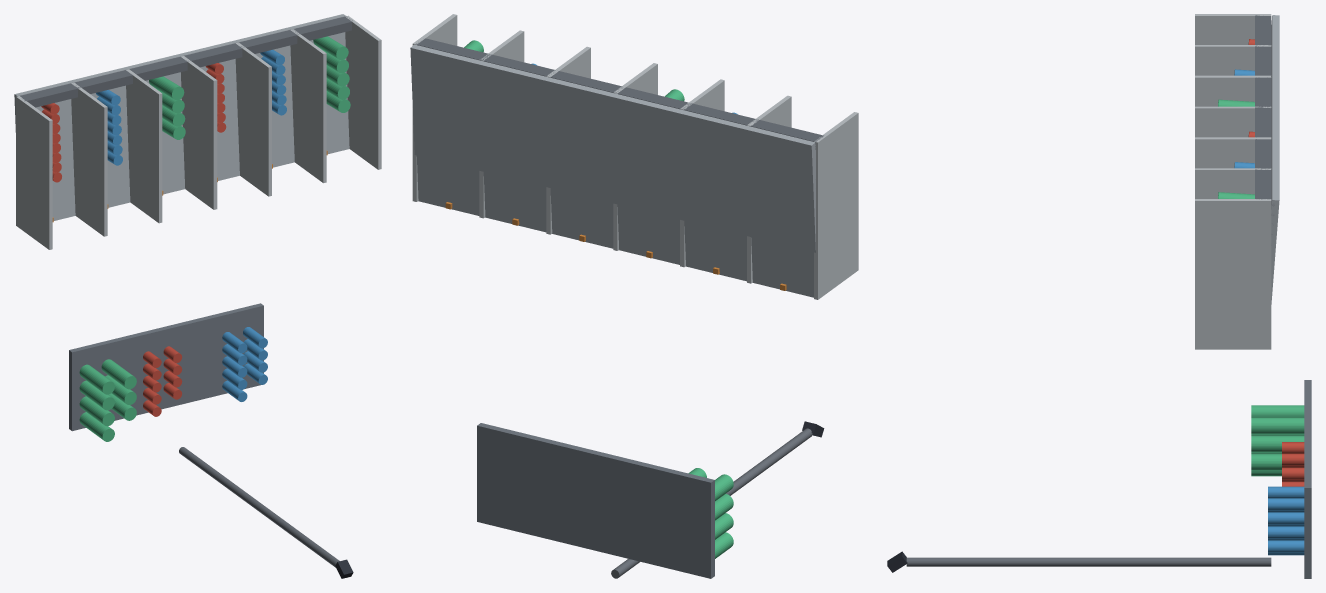
Rendered from workcell.glb.
The picture shows the model from 3 angles, left to right: view 1: azimuth 30°, elevation 25°; view 2: azimuth 150°, elevation 25°; view 3: azimuth 270°, elevation 25°; orthographic projection. The views are drawn at different scales.
Visible parts, largest first — view 1: roller_bed, stock_tray, divider_left_frame, front_retainer, divider_lane_02_03_divider, divider_lane_01_02_divider, divider_lane_05_06_divider, divider_lane_03_04_divider, divider_lane_04_05_divider, divider_right_frame, camera_mast, product_stock_large_bottle_01 (+6 smaller); view 2: roller_bed, stock_tray, divider_left_frame, front_retainer, camera_mast, divider_right_frame, divider_lane_05_06_divider, divider_lane_04_05_divider, divider_lane_03_04_divider, divider_lane_01_02_divider, divider_lane_02_03_divider; view 3: divider_right_frame, camera_mast, front_retainer, roller_bed, divider_lane_03_04_divider, divider_left_frame, divider_lane_04_05_divider, divider_lane_01_02_divider, divider_lane_02_03_divider, divider_lane_05_06_divider, stock_tray, product_stock_large_bottle_02 (+2 smaller).
Part boxes in pixels (x1,y1,x2,y2): roller_bed: (14, 14, 349, 220); stock_tray: (69, 303, 263, 431); divider_left_frame: (16, 96, 52, 249); front_retainer: (20, 16, 352, 107); divider_lane_02_03_divider: (126, 69, 162, 223); divider_lane_01_02_divider: (71, 82, 107, 236); divider_lane_05_06_divider: (290, 29, 326, 183); divider_lane_03_04_divider: (181, 56, 217, 209); divider_lane_04_05_divider: (235, 42, 271, 196); divider_right_frame: (345, 15, 381, 169); camera_mast: (179, 447, 339, 567); product_stock_large_bottle_01: (79, 364, 114, 394); roller_bed: (410, 44, 815, 297); stock_tray: (477, 423, 714, 578); divider_left_frame: (814, 112, 858, 299); front_retainer: (416, 38, 823, 146); camera_mast: (611, 428, 812, 578); divider_right_frame: (412, 14, 457, 201); divider_lane_05_06_divider: (479, 30, 524, 218); divider_lane_04_05_divider: (546, 46, 590, 234); divider_lane_03_04_divider: (613, 63, 657, 250); divider_lane_01_02_divider: (747, 95, 791, 283); divider_lane_02_03_divider: (680, 79, 724, 267); divider_right_frame: (1195, 199, 1271, 349); camera_mast: (906, 557, 1271, 566); front_retainer: (1255, 15, 1271, 199); roller_bed: (1271, 15, 1279, 304); divider_lane_03_04_divider: (1195, 106, 1271, 137); divider_left_frame: (1195, 14, 1271, 44); divider_lane_04_05_divider: (1195, 137, 1271, 168); divider_lane_01_02_divider: (1195, 45, 1271, 75); divider_lane_02_03_divider: (1195, 75, 1271, 106); divider_lane_05_06_divider: (1195, 168, 1271, 198); stock_tray: (1304, 380, 1311, 578); product_stock_large_bottle_02: (1251, 417, 1304, 433).
Size of the model in its own units: 2.42 by 2.8 by 2.33.
